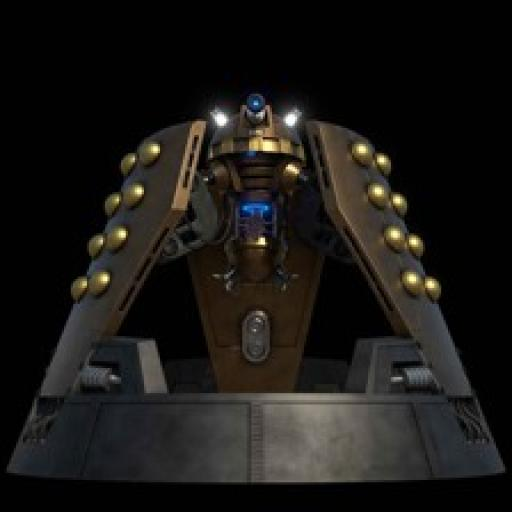dalek: (0, 87, 512, 483)
